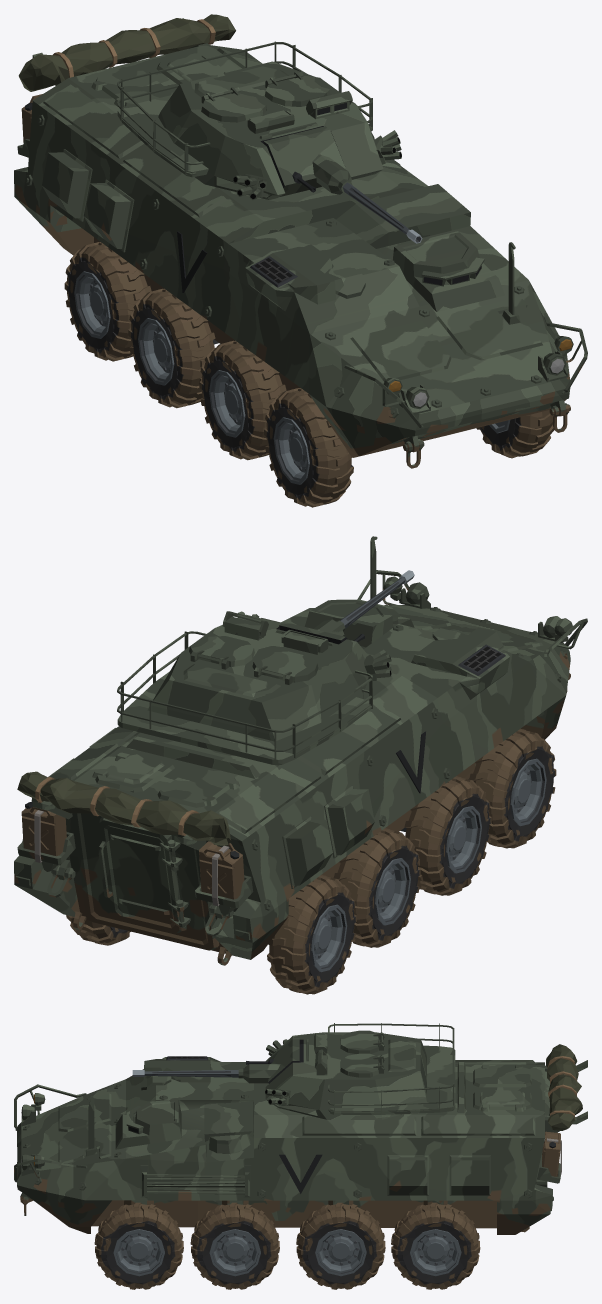
Rendered from SM_Veh_APC_Heavy_01.fbx.
The picture shows the model from 3 angles, top to bottom: view 1: azimuth 30°, elevation 25°; view 2: azimuth 150°, elevation 25°; view 3: azimuth 270°, elevation 25°; orthographic projection. The views are drawn at different scales.
Parts seen in each view (by area): view 1: SM_Veh_APC_Heavy_01, SM_Veh_APC_Heavy_Turret_01, SM_Veh_APC_Heavy_Wheel_rr_01, SM_Veh_APC_Heavy_Wheel_fr_01, SM_Veh_APC_Heavy_Wheel_fr_02, SM_Veh_APC_Heavy_Wheel_rr_02, SM_Veh_APC_Heavy_Gun_01, SM_Veh_APC_Heavy_Wheel_fl_01, SM_Veh_APC_Heavy_Hatch_02, SM_Veh_APC_Heavy_Hatch_01; view 2: SM_Veh_APC_Heavy_01, SM_Veh_APC_Heavy_Turret_01, SM_Veh_APC_Heavy_Wheel_rr_02, SM_Veh_APC_Heavy_Wheel_fr_02, SM_Veh_APC_Heavy_Wheel_fr_01, SM_Veh_APC_Heavy_Wheel_rr_01, SM_Veh_APC_Heavy_Gun_01, SM_Veh_APC_Heavy_Hatch_01, SM_Veh_APC_Heavy_Hatch_02, SM_Veh_APC_Heavy_Wheel_rl_02; view 3: SM_Veh_APC_Heavy_01, SM_Veh_APC_Heavy_Turret_01, SM_Veh_APC_Heavy_Wheel_rl_01, SM_Veh_APC_Heavy_Wheel_rl_02, SM_Veh_APC_Heavy_Wheel_fl_02, SM_Veh_APC_Heavy_Wheel_fl_01, SM_Veh_APC_Heavy_Gun_01, SM_Veh_APC_Heavy_Hatch_01, SM_Veh_APC_Heavy_Hatch_02.
Boxes of the visible parts, left/top/right/bottom form: SM_Veh_APC_Heavy_01: left=14, top=14, right=587, bottom=468; SM_Veh_APC_Heavy_Turret_01: left=117, top=41, right=401, bottom=200; SM_Veh_APC_Heavy_Wheel_rr_01: left=128, top=288, right=215, bottom=408; SM_Veh_APC_Heavy_Wheel_fr_01: left=264, top=388, right=353, bottom=507; SM_Veh_APC_Heavy_Wheel_fr_02: left=199, top=340, right=286, bottom=460; SM_Veh_APC_Heavy_Wheel_rr_02: left=64, top=242, right=151, bottom=361; SM_Veh_APC_Heavy_Gun_01: left=263, top=126, right=422, bottom=243; SM_Veh_APC_Heavy_Wheel_fl_01: left=476, top=410, right=553, bottom=458; SM_Veh_APC_Heavy_Hatch_02: left=201, top=87, right=266, bottom=122; SM_Veh_APC_Heavy_Hatch_01: left=264, top=71, right=330, bottom=106; SM_Veh_APC_Heavy_01: left=14, top=536, right=587, bottom=965; SM_Veh_APC_Heavy_Turret_01: left=117, top=611, right=391, bottom=765; SM_Veh_APC_Heavy_Wheel_rr_02: left=267, top=875, right=356, bottom=994; SM_Veh_APC_Heavy_Wheel_fr_02: left=404, top=776, right=491, bottom=895; SM_Veh_APC_Heavy_Wheel_fr_01: left=469, top=728, right=556, bottom=848; SM_Veh_APC_Heavy_Wheel_rr_01: left=333, top=828, right=420, bottom=947; SM_Veh_APC_Heavy_Gun_01: left=279, top=570, right=414, bottom=644; SM_Veh_APC_Heavy_Hatch_01: left=189, top=636, right=254, bottom=666; SM_Veh_APC_Heavy_Hatch_02: left=252, top=651, right=318, bottom=682; SM_Veh_APC_Heavy_Wheel_rl_02: left=66, top=915, right=130, bottom=945; SM_Veh_APC_Heavy_01: left=14, top=1044, right=587, bottom=1234; SM_Veh_APC_Heavy_Turret_01: left=265, top=1023, right=455, bottom=1119; SM_Veh_APC_Heavy_Wheel_rl_01: left=296, top=1202, right=385, bottom=1289; SM_Veh_APC_Heavy_Wheel_rl_02: left=391, top=1202, right=480, bottom=1289; SM_Veh_APC_Heavy_Wheel_fl_02: left=190, top=1202, right=279, bottom=1289; SM_Veh_APC_Heavy_Wheel_fl_01: left=94, top=1202, right=183, bottom=1289; SM_Veh_APC_Heavy_Gun_01: left=132, top=1038, right=299, bottom=1083; SM_Veh_APC_Heavy_Hatch_01: left=340, top=1053, right=384, bottom=1077; SM_Veh_APC_Heavy_Hatch_02: left=340, top=1030, right=384, bottom=1053.
Size of the model in its own units: 302 by 306 by 761.
